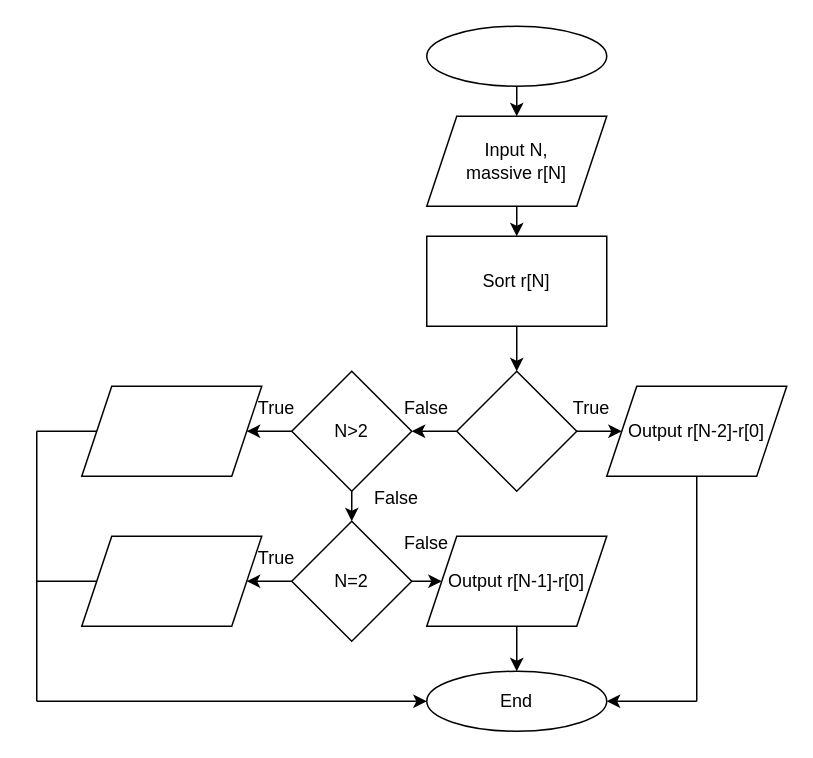
The diagram is 813 pixels wide and 758 high, and some of its shapes have lost their labels. Here are the shapes that lost their labels. From the top down, the centre of each, then its label:
point (516, 55): Beginning
point (171, 430): Output r[N-1]-r[1]
point (516, 430): if(r[N-1]-r[1]> >r[N-2]-r[0] and N>2)
point (171, 580): Output r[0]
